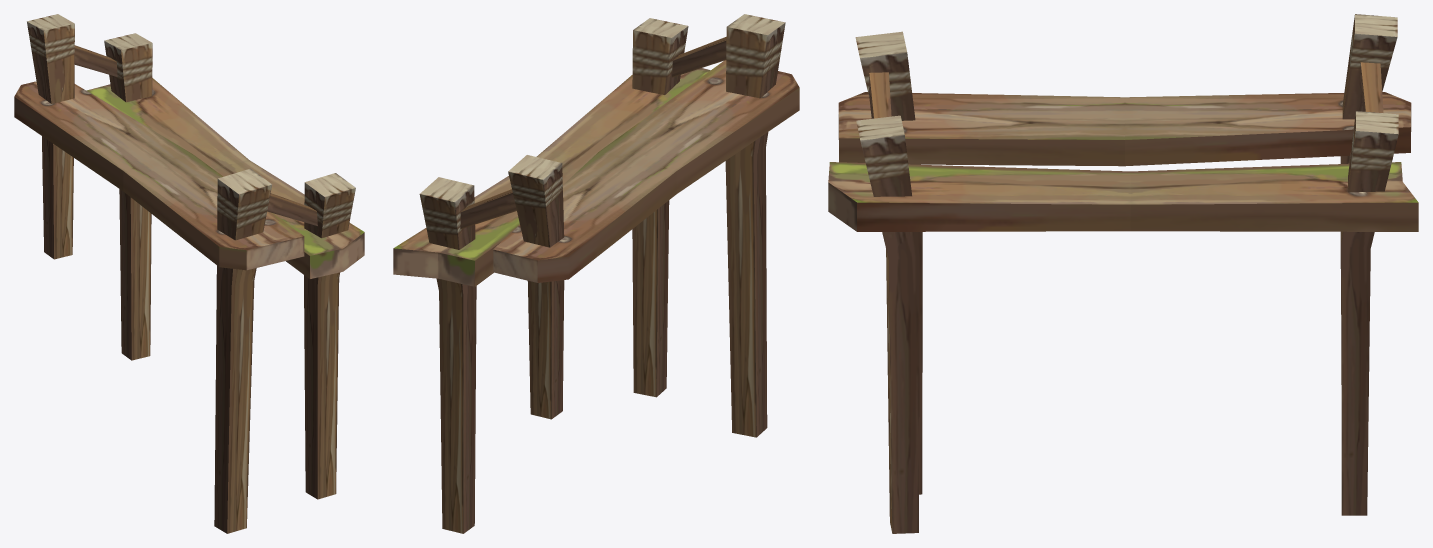
Rendered from Map_05_bridge08.FBX.
3 views of the same model, side by side, from view 1: azimuth 30°, elevation 25°; view 2: azimuth 150°, elevation 25°; view 3: azimuth 270°, elevation 25° (orthographic). The views are drawn at different scales.
Visible parts, largest first — view 1: Map_05_bridge08; view 2: Map_05_bridge08; view 3: Map_05_bridge08.
Boxes of the visible parts, x1=… form: Map_05_bridge08: x1=14, y1=14, x2=364, y2=533; Map_05_bridge08: x1=393, y1=14, x2=799, y2=533; Map_05_bridge08: x1=828, y1=14, x2=1418, y2=533.
Size of the model in its own units: 126 by 313 by 358.
